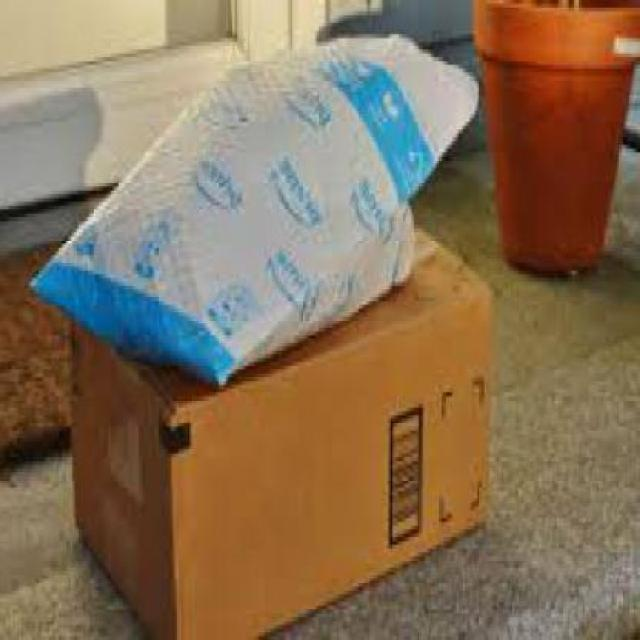cardboxes: (64, 217, 493, 637)
